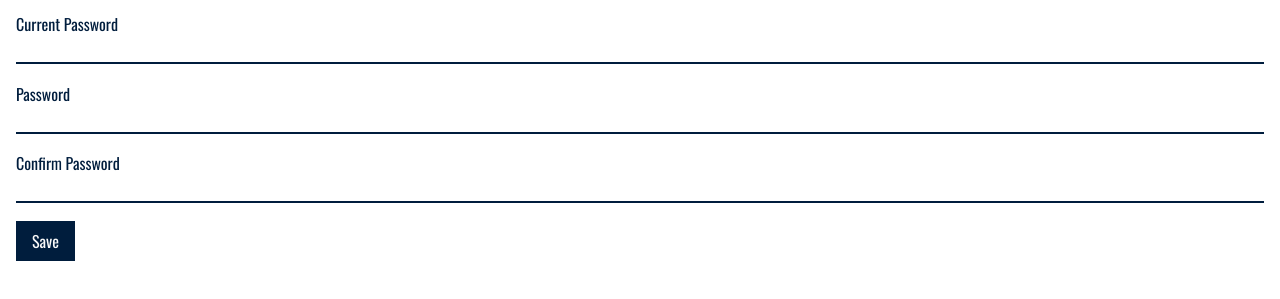
Edit User Password Form › should display an error message for a confirm password less than 8 characters long
Type "Pa$$w0rd" into the password field labelled "Current Password" at (640, 51), box [16,37,1264,64]
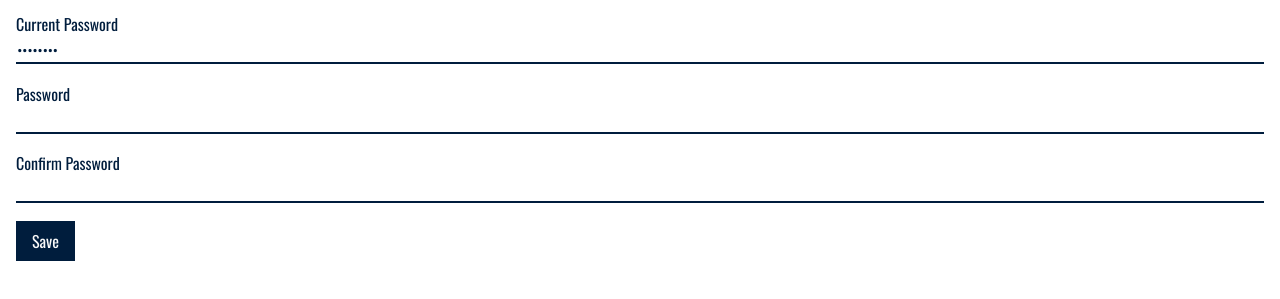
Type "Pa$$w0rd" into the password field labelled "Password" at (640, 120), box [16,107,1264,134]
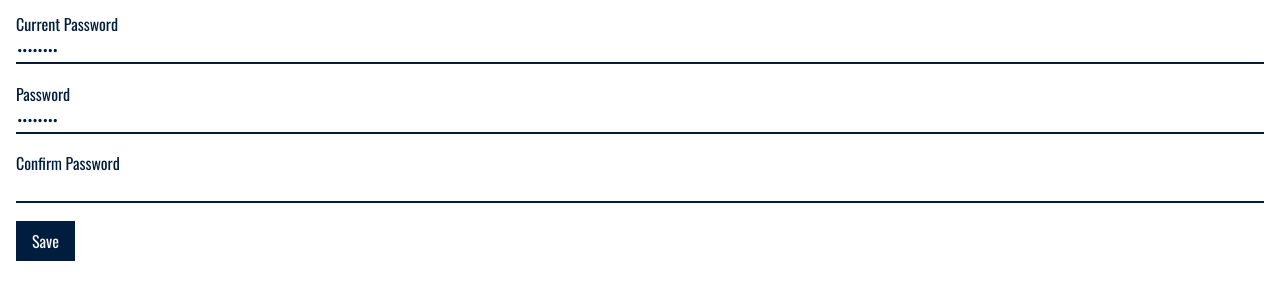
Type "Pa$$" into the password field labelled "Confirm Password" at (640, 190), box [16,176,1264,203]
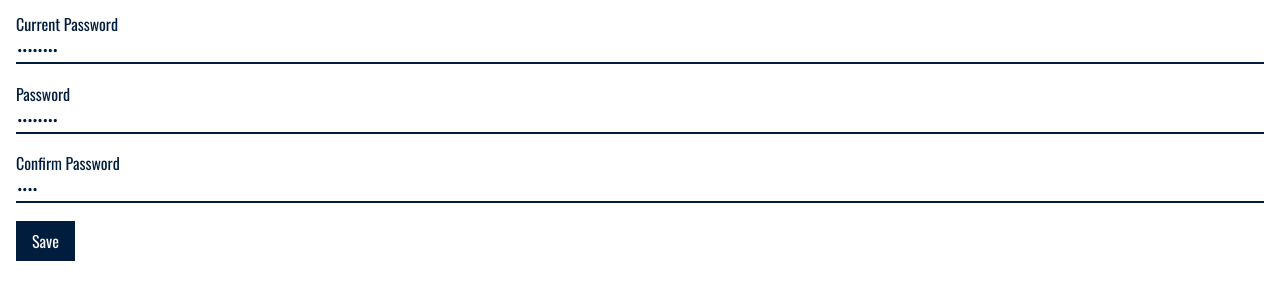
Click the button "Save" at (46, 240), box [16,220,75,260]
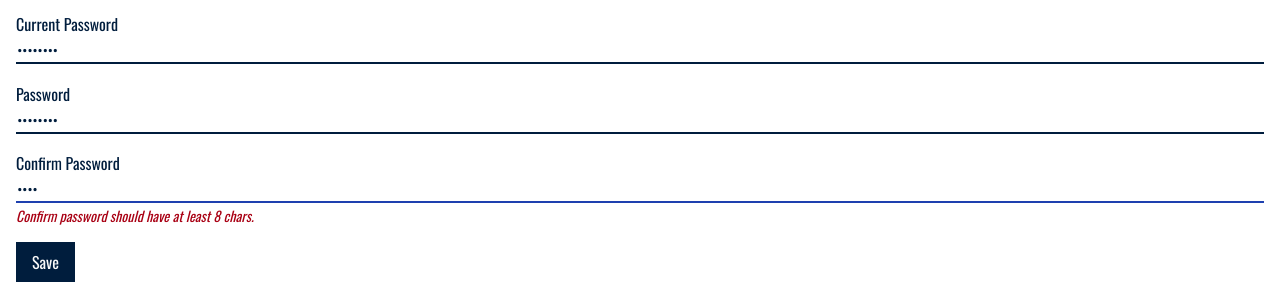
Result: the text "Confirm password should have at least 8 chars." is shown at [16,204,254,226]
